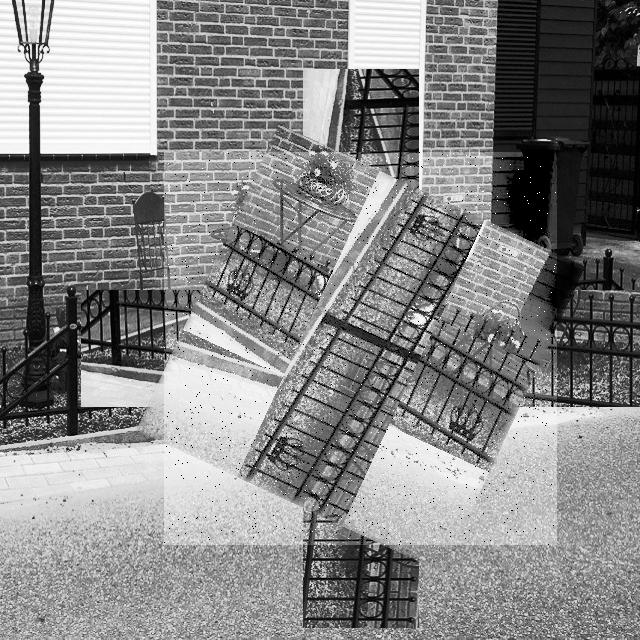fences: (164, 152, 557, 545)
